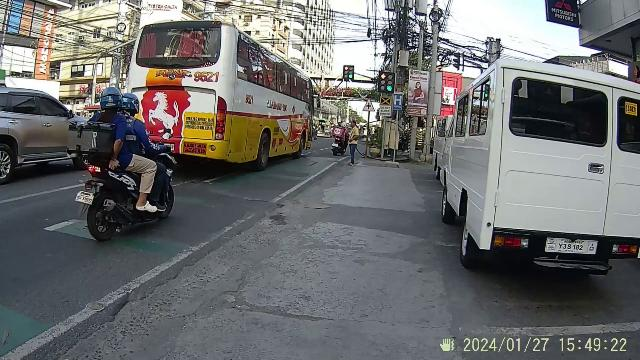car: (460, 62, 640, 278)
cracked_pavement: (216, 288, 362, 332)
street_sign: (378, 98, 389, 158)
